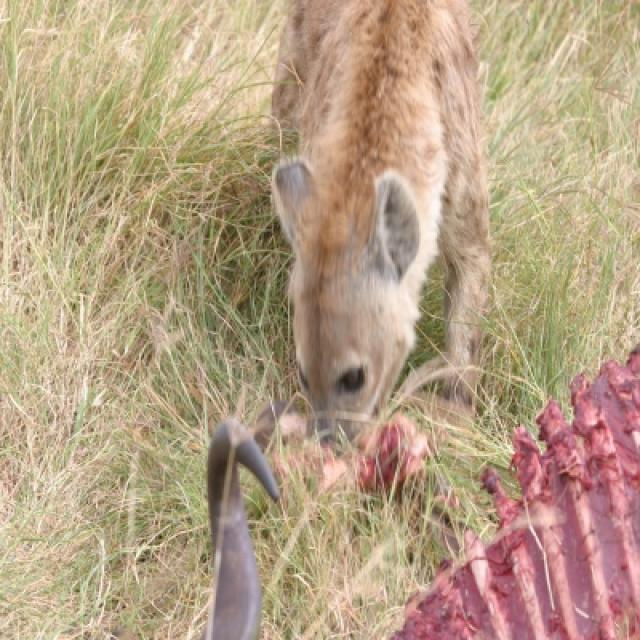hyena: (270, 0, 493, 445)
